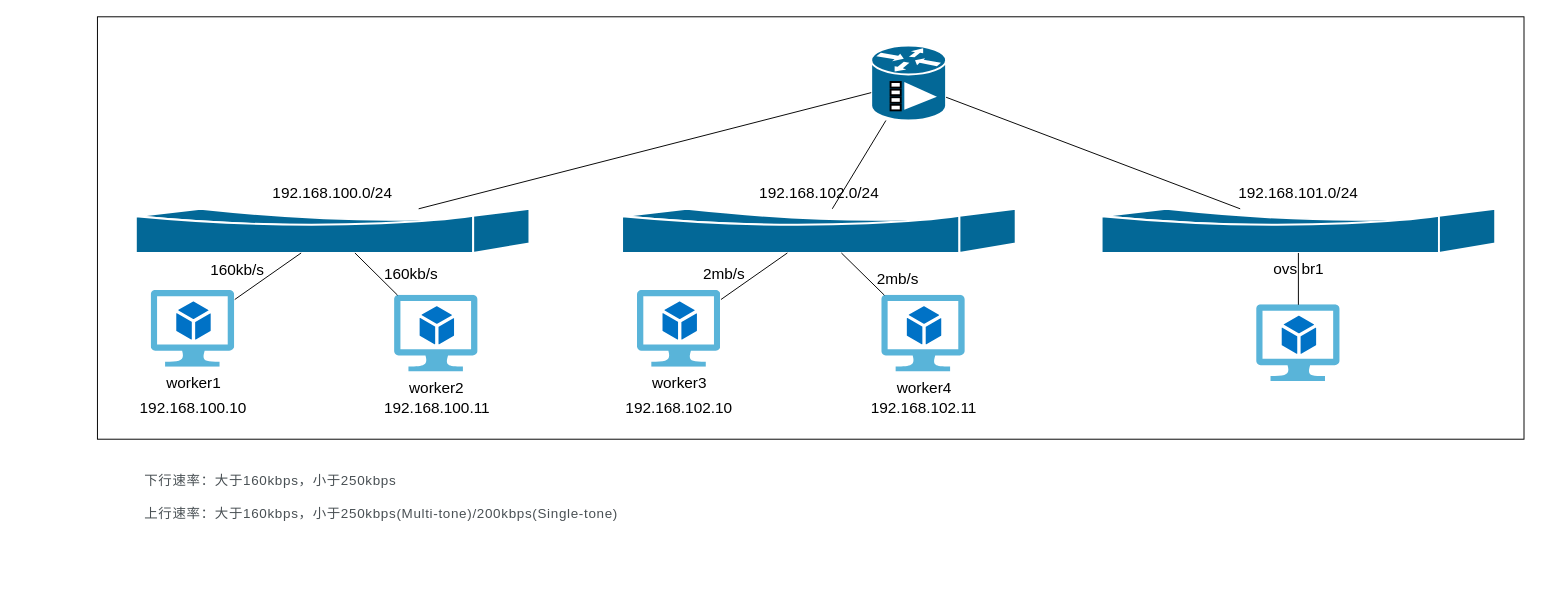
Some shapes in this 1541 by 600 pixel diagram are drawn without their labels. Each missing label, with the centre of its shape:
head: the point at 1298,342
ovs br0: the point at 332,230
ovs br2: the point at 818,230
